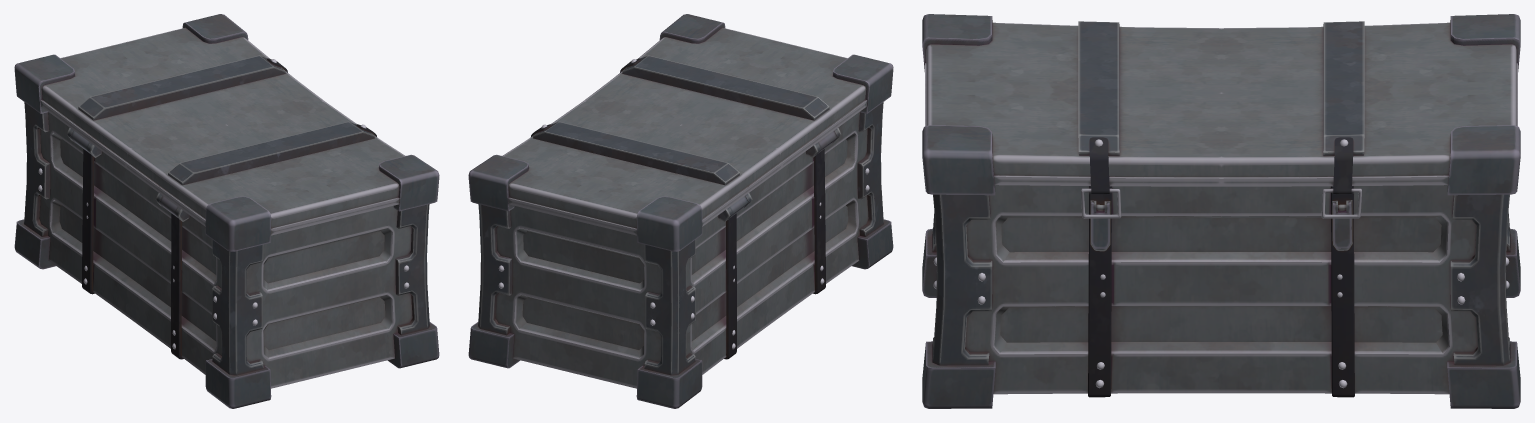
Rendered from Caixa_Metal.fbx.
3 renders of one model, left to right at view 1: azimuth 30°, elevation 25°; view 2: azimuth 150°, elevation 25°; view 3: azimuth 270°, elevation 25°, orthographic. The views are drawn at different scales.
Parts seen in each view (by area): view 1: Cube.041, Cube.049; view 2: Cube.041, Cube.049; view 3: Cube.041, Cube.049.
Part boxes in pixels (bbox=[...]): Cube.041: bbox=[14, 102, 439, 408]; Cube.049: bbox=[14, 14, 439, 251]; Cube.041: bbox=[468, 102, 893, 408]; Cube.049: bbox=[468, 14, 893, 251]; Cube.041: bbox=[922, 185, 1520, 408]; Cube.049: bbox=[922, 14, 1520, 218].
Bounding box in the file's own units: 109 × 94.35 × 195.
